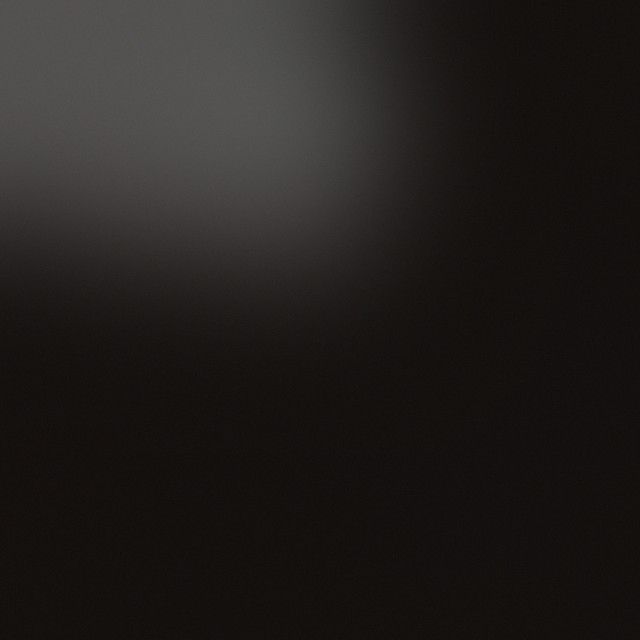smoke: (47, 30, 311, 294)
